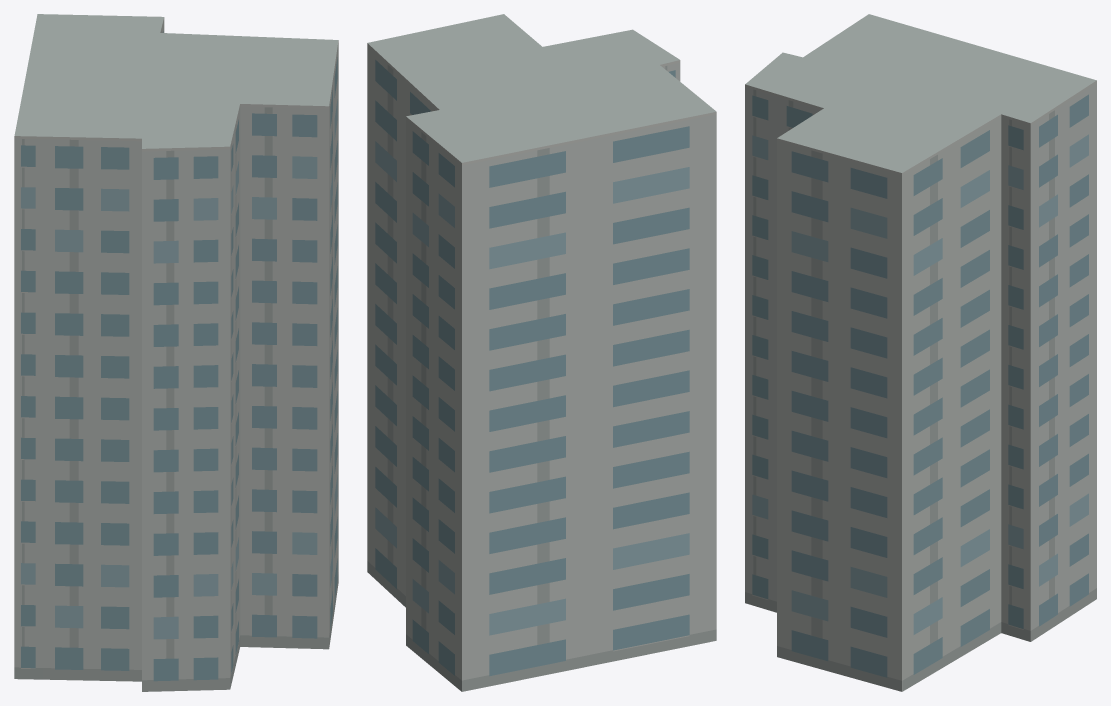
File: residential-35f400ce-a1f2-4a37-ac20-0a6e9a821705.glb
3 renders of one model, left to right at view 1: azimuth 30°, elevation 25°; view 2: azimuth 150°, elevation 25°; view 3: azimuth 270°, elevation 25°, orthographic. The views are drawn at different scales.
Parts seen in each view (by area): view 1: residential-35f400ce-a1f2-4a37-ac20-0a6e9a821705.tmp; view 2: residential-35f400ce-a1f2-4a37-ac20-0a6e9a821705.tmp; view 3: residential-35f400ce-a1f2-4a37-ac20-0a6e9a821705.tmp.
Part boxes in pixels (bbox=[...]): residential-35f400ce-a1f2-4a37-ac20-0a6e9a821705.tmp: bbox=[14, 14, 338, 691]; residential-35f400ce-a1f2-4a37-ac20-0a6e9a821705.tmp: bbox=[367, 14, 716, 691]; residential-35f400ce-a1f2-4a37-ac20-0a6e9a821705.tmp: bbox=[745, 14, 1096, 691].
Bounding box in the file's own units: 32.91 × 50 × 30.73.
